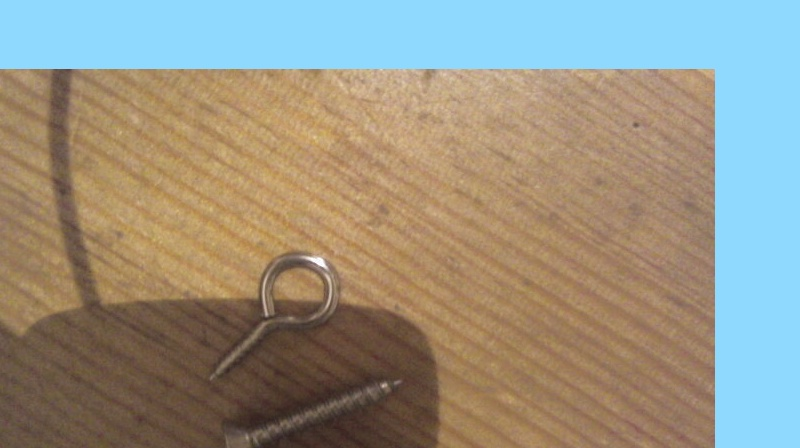O001: (206, 249, 340, 384)
S001: (220, 374, 405, 447)
